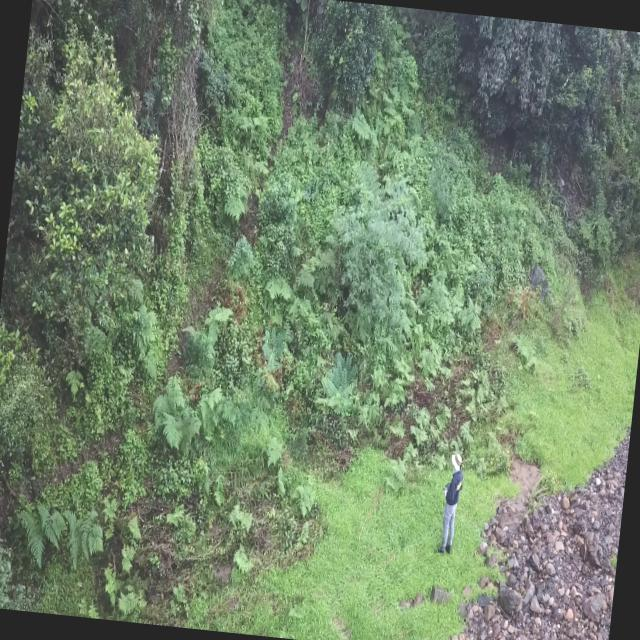Mysore-Thorn-Weed: (312, 348, 359, 417), (256, 327, 286, 392)
